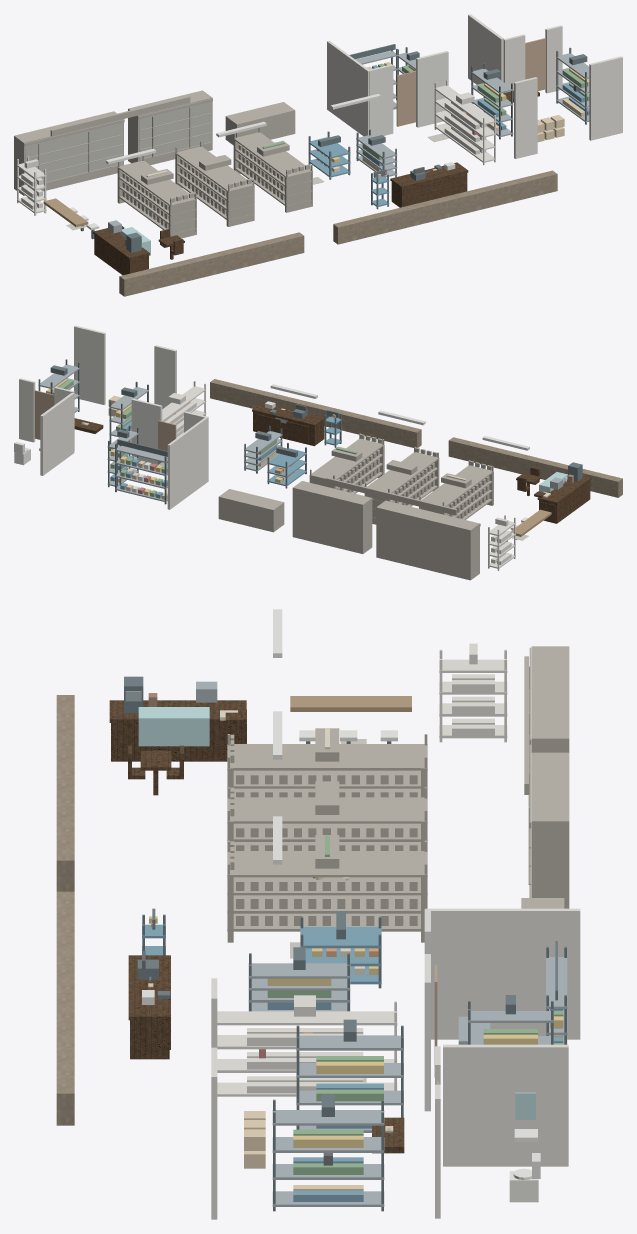
Rendered from EST06.glb.
3 views of the same model, one above another, from view 1: azimuth 30°, elevation 25°; view 2: azimuth 150°, elevation 25°; view 3: azimuth 270°, elevation 25° (orthographic). The views are drawn at different scales.
Parts seen in each view (by area): view 1: GELADEIRAS_BEBIDAS_CORPO, ADAPT_FACHADA_RODAPE_1, ADAPT_FACHADA_RODAPE_0, GELADEIRAS_LATICINIOS_CORPO, GELADEIRAS_BEBIDAS_PORTAS_VIDRO, LOJA_ESTOQUE_PAREDE_ESQUERDA, ANEXO_FRENTE_PREENCHIMENTO_DIREITO_CANDIDATO, GELADEIRAS_LATICINIOS_PORTAS_VIDRO, LOJA_ESTOQUE_FRENTE_DIR, ANEXO_FRENTE_PREENCHIMENTO_ESQUERDO_CANDIDATO, ANEXO_DIVISORIA_WC_LATERAL, LOJA_ESTOQUE_FRENTE_ESQ (+20 smaller); view 2: GELADEIRAS_BEBIDAS_CORPO, GELADEIRAS_LATICINIOS_CORPO, ADAPT_FACHADA_RODAPE_1, ADAPT_FACHADA_RODAPE_0, LOJA_ESTOQUE_PAREDE_ESQUERDA, ANEXO_FRENTE_PREENCHIMENTO_DIREITO_CANDIDATO, ANEXO_DIVISORIA_WC_LATERAL, FREEZER_SORVETES_BASE, LOJA_ESTOQUE_FRENTE_DIR, ANEXO_FRENTE_PREENCHIMENTO_ESQUERDO_CANDIDATO, GONDOLA_HIGIENE_BANDEJA_3, GONDOLA_MERCEARIA_BANDEJA_3 (+14 smaller); view 3: LOJA_ESTOQUE_PAREDE_ESQUERDA, ANEXO_DIVISORIA_WC_LATERAL, GELADEIRAS_LATICINIOS_CORPO, GONDOLA_LANCHES_BANDEJA_3, GONDOLA_HIGIENE_BANDEJA_3, GONDOLA_MERCEARIA_BANDEJA_3, ADAPT_FACHADA_RODAPE_1, GELADEIRAS_BEBIDAS_CORPO, ADAPT_FACHADA_RODAPE_0, CAFE_VITRINE_BANCADA, BALCAO_CAFE_LANCHES_BASE, PAREDE_AUTOMOTIVA_BANDEJA_3 (+31 smaller).
Part boxes in pixels (box(x1,y1,x2,y2)): GELADEIRAS_BEBIDAS_CORPO: box(14, 111, 123, 195); ADAPT_FACHADA_RODAPE_1: box(333, 170, 557, 244); ADAPT_FACHADA_RODAPE_0: box(119, 232, 304, 296); GELADEIRAS_LATICINIOS_CORPO: box(128, 90, 212, 165); GELADEIRAS_BEBIDAS_PORTAS_VIDRO: box(25, 123, 122, 184); LOJA_ESTOQUE_PAREDE_ESQUERDA: box(327, 40, 370, 136); ANEXO_FRENTE_PREENCHIMENTO_DIREITO_CANDIDATO: box(589, 56, 622, 140); GELADEIRAS_LATICINIOS_PORTAS_VIDRO: box(139, 102, 211, 160); LOJA_ESTOQUE_FRENTE_DIR: box(416, 51, 448, 127); ANEXO_FRENTE_PREENCHIMENTO_ESQUERDO_CANDIDATO: box(514, 77, 537, 158); ANEXO_DIVISORIA_WC_LATERAL: box(468, 14, 503, 93); LOJA_ESTOQUE_FRENTE_ESQ: box(368, 64, 393, 136); GELADEIRAS_BEBIDAS_CORPO: box(376, 500, 479, 580); GELADEIRAS_LATICINIOS_CORPO: box(292, 481, 372, 553); ADAPT_FACHADA_RODAPE_1: box(210, 379, 421, 447); ADAPT_FACHADA_RODAPE_0: box(448, 437, 622, 497); LOJA_ESTOQUE_PAREDE_ESQUERDA: box(167, 416, 208, 509); ANEXO_FRENTE_PREENCHIMENTO_DIREITO_CANDIDATO: box(74, 325, 105, 404); ANEXO_DIVISORIA_WC_LATERAL: box(40, 392, 74, 475); FREEZER_SORVETES_BASE: box(218, 498, 284, 532); LOJA_ESTOQUE_FRENTE_DIR: box(131, 398, 162, 464); ANEXO_FRENTE_PREENCHIMENTO_ESQUERDO_CANDIDATO: box(154, 345, 176, 408); GONDOLA_HIGIENE_BANDEJA_3: box(309, 438, 383, 479); GONDOLA_MERCEARIA_BANDEJA_3: box(421, 465, 493, 506); LOJA_ESTOQUE_PAREDE_ESQUERDA: box(425, 908, 580, 1039); ANEXO_DIVISORIA_WC_LATERAL: box(443, 1044, 568, 1166); GELADEIRAS_LATICINIOS_CORPO: box(531, 752, 569, 908); GONDOLA_LANCHES_BANDEJA_3: box(227, 797, 427, 823); GONDOLA_HIGIENE_BANDEJA_3: box(227, 851, 427, 877); GONDOLA_MERCEARIA_BANDEJA_3: box(227, 744, 427, 770); ADAPT_FACHADA_RODAPE_1: box(56, 891, 74, 1125); GELADEIRAS_BEBIDAS_CORPO: box(531, 646, 569, 752); ADAPT_FACHADA_RODAPE_0: box(56, 695, 74, 891); CAFE_VITRINE_BANCADA: box(138, 707, 209, 746); BALCAO_CAFE_LANCHES_BASE: box(111, 723, 245, 761); PAREDE_AUTOMOTIVA_BANDEJA_3: box(217, 1011, 397, 1025).
Bounding box in the file's own units: 23.17 × 3.39 × 10.33.
Materials: 25 (2 with a texture image).
